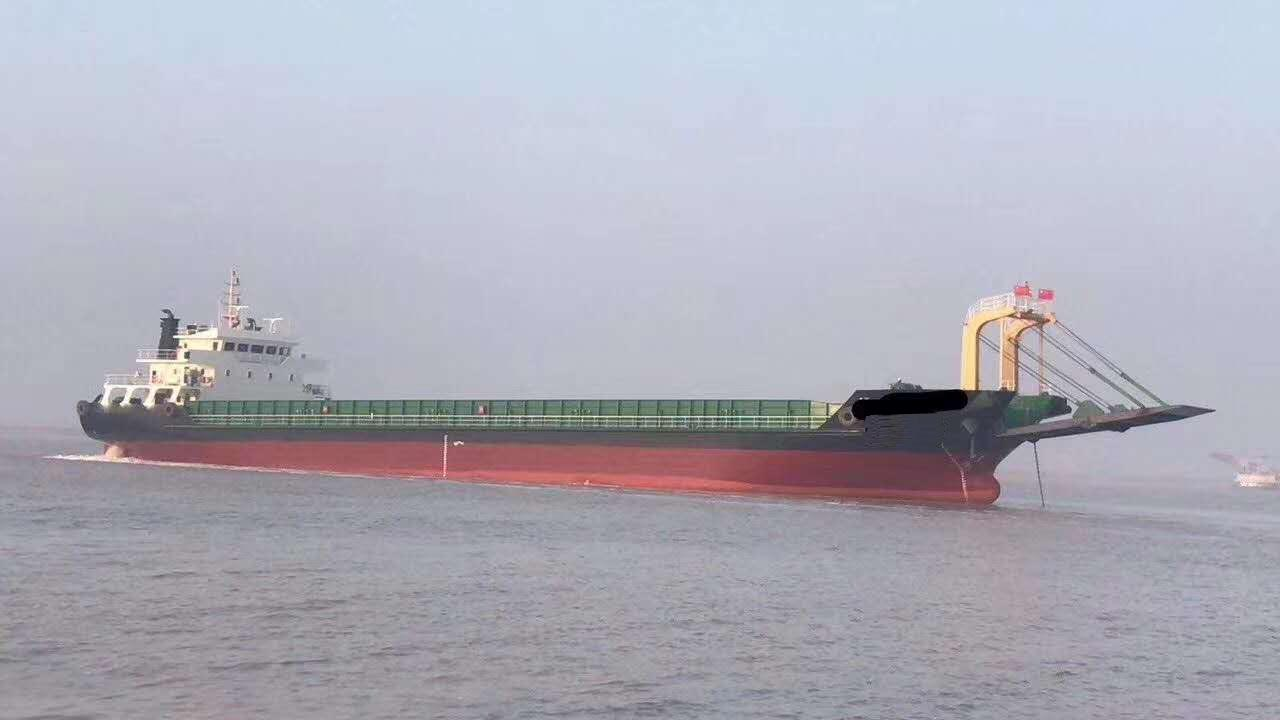Cargoship: (82, 267, 1219, 507)
